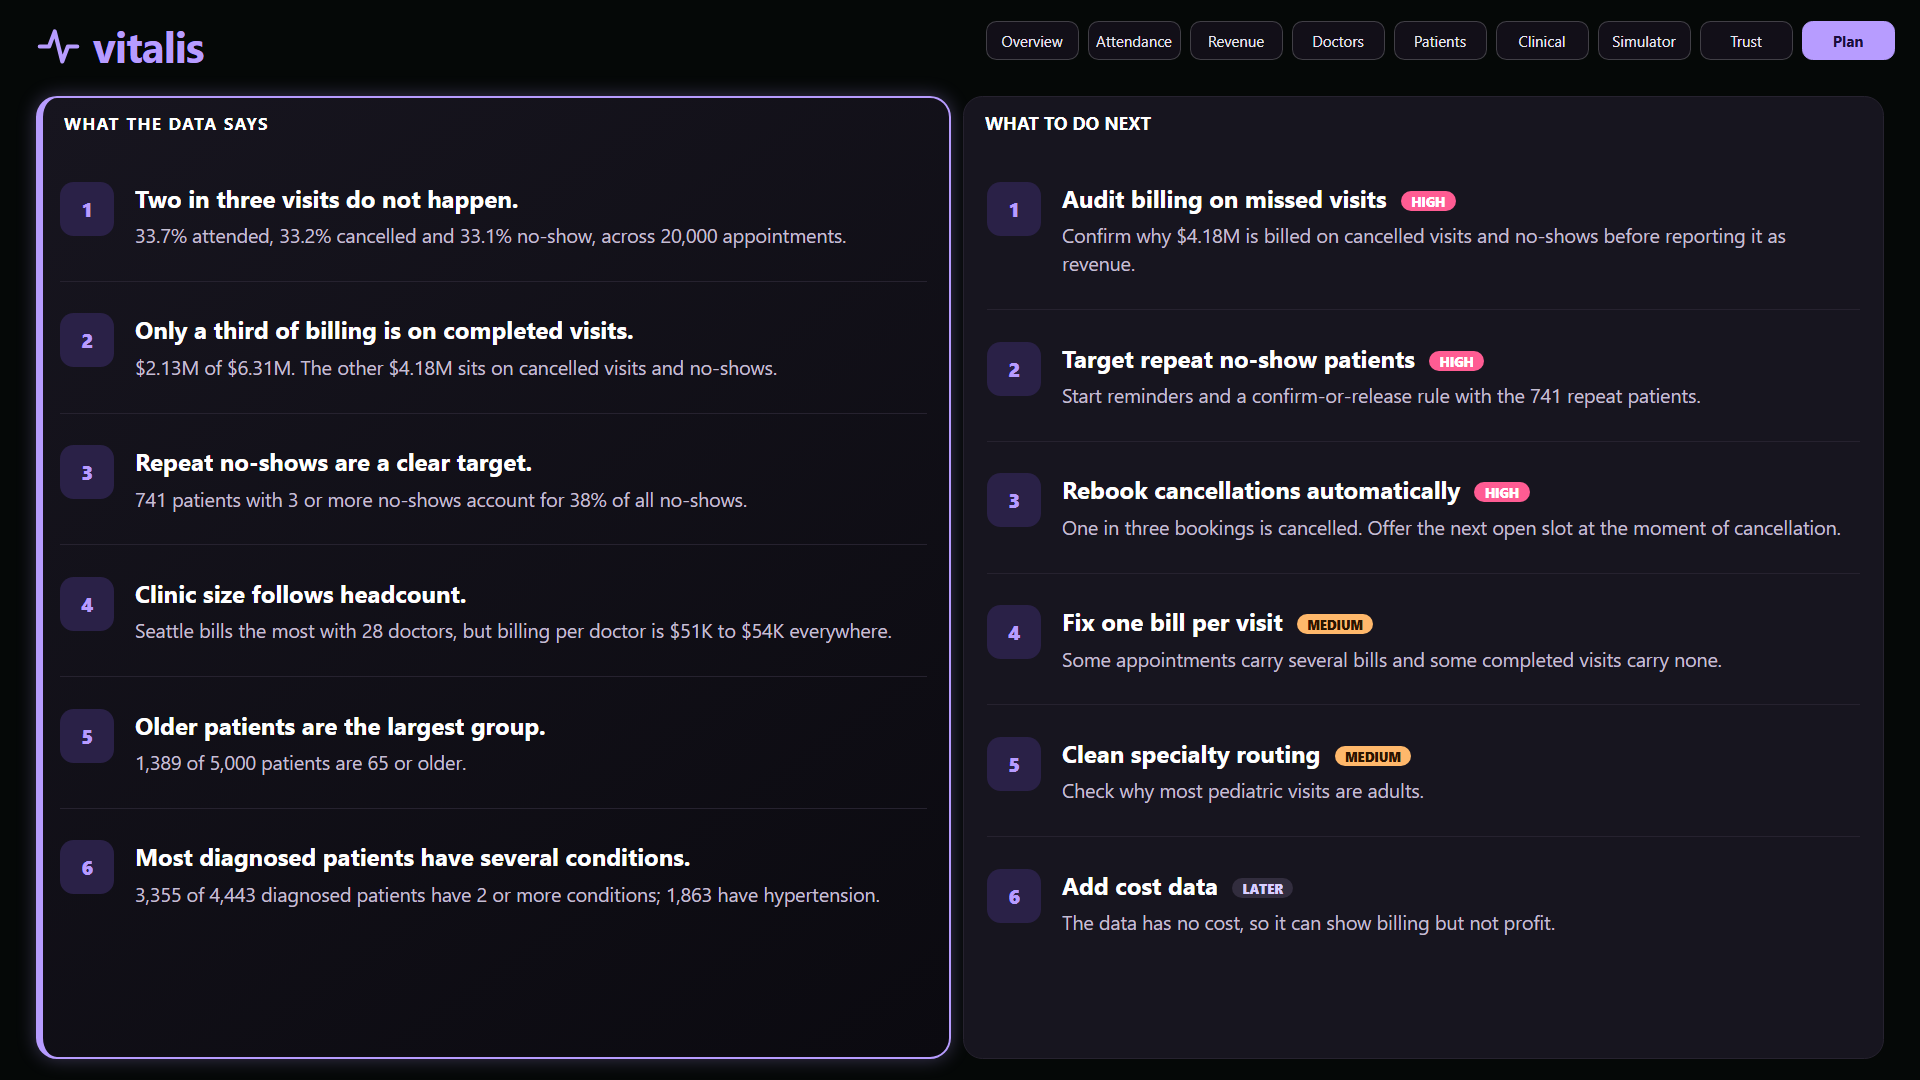

What the dashboard file says about the page in this screenshot:
{"tool":"powerbi","page":{"name":"Key Insights","canvas":[1280,720],"ordinal":8},"visuals":[{"type":"textbox","box":[0,112.6,1278.8,563.2],"z":0},{"type":"textbox","box":[0,0,1279.4,86.9],"z":1000},{"type":"image","box":[0,0,147.4,87.8],"z":2000}]}

Visuals, with their boxes on the page's 1280x720 design canvas (x1, y1, x2, y2). These are canvas units, not pixel positions in the 1920x1080 screenshot, which may show the page scaled, cropped or inside an application window:
textbox: <bbox>0, 113, 1279, 676</bbox>
textbox: <bbox>0, 0, 1279, 87</bbox>
image: <bbox>0, 0, 147, 88</bbox>
